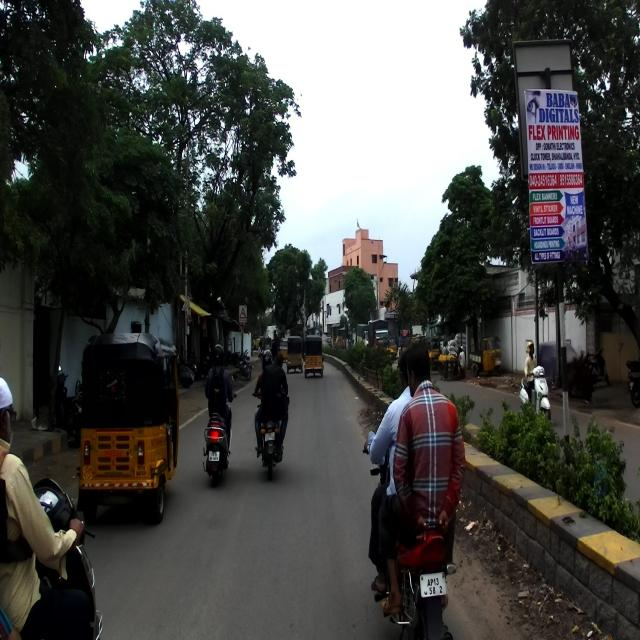autorickshaw: (74, 330, 180, 529)
motorcycle_Hero: (362, 445, 458, 639)
motorcycle_TVS: (252, 391, 284, 481)
scooter: (202, 374, 236, 483), (56, 364, 82, 447)
